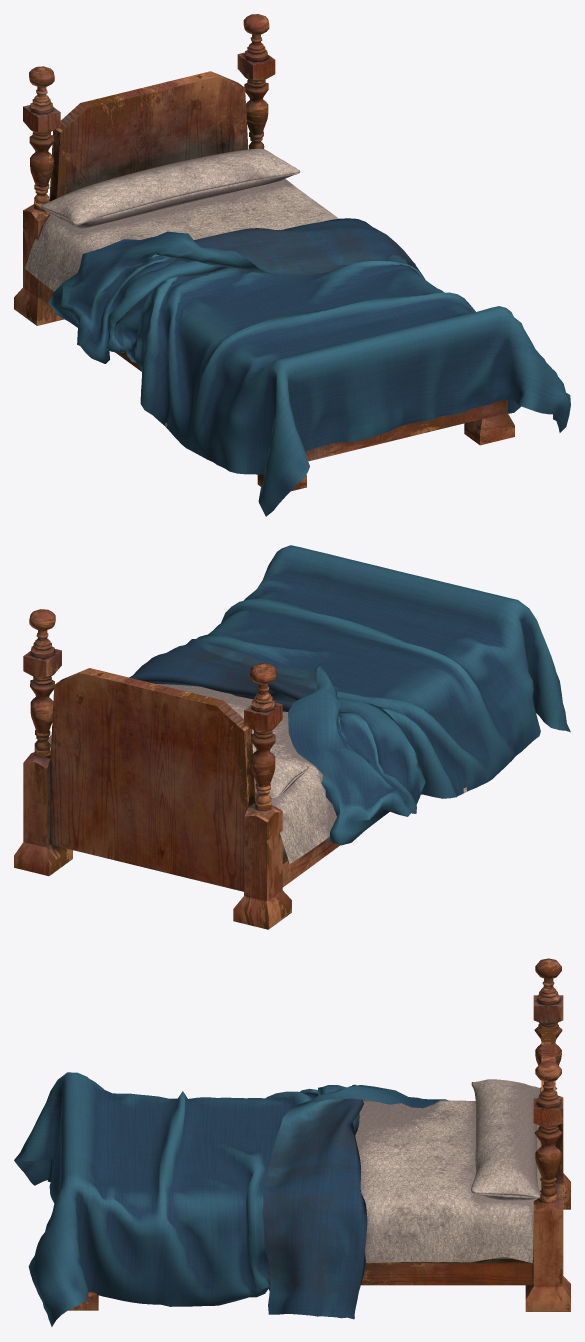
The picture shows the model from 3 angles, top to bottom: view 1: azimuth 30°, elevation 25°; view 2: azimuth 150°, elevation 25°; view 3: azimuth 270°, elevation 25°; orthographic projection. The views are drawn at different scales.
Visible parts, largest first — view 1: Plane001_tela_0, Plane001_madera_0; view 2: Plane001_tela_0, Plane001_madera_0; view 3: Plane001_tela_0, Plane001_madera_0.
Part boxes in pixels (x1,y1,x2,y2): Plane001_tela_0: (25,148,570,516); Plane001_madera_0: (14,14,514,491); Plane001_tela_0: (47,545,570,863); Plane001_madera_0: (14,578,339,929); Plane001_tela_0: (14,1072,540,1326); Plane001_madera_0: (68,958,570,1311).
Size of the model in its own units: 174 by 122 by 254.
3 materials, 3 textured.
